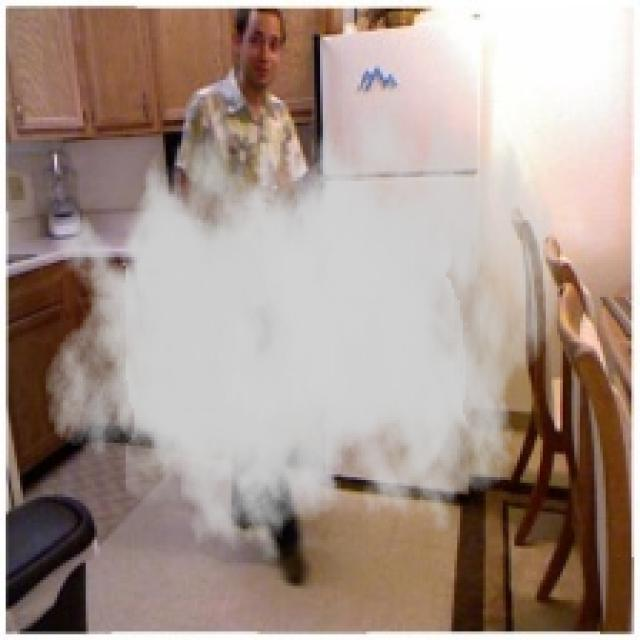Smoke: (43, 51, 560, 572)
